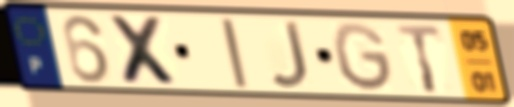6: (59, 12, 113, 86)
G: (329, 19, 397, 94)
I: (216, 16, 252, 91)
J: (266, 19, 313, 92)
T: (392, 21, 445, 96)
X: (104, 12, 186, 89)
